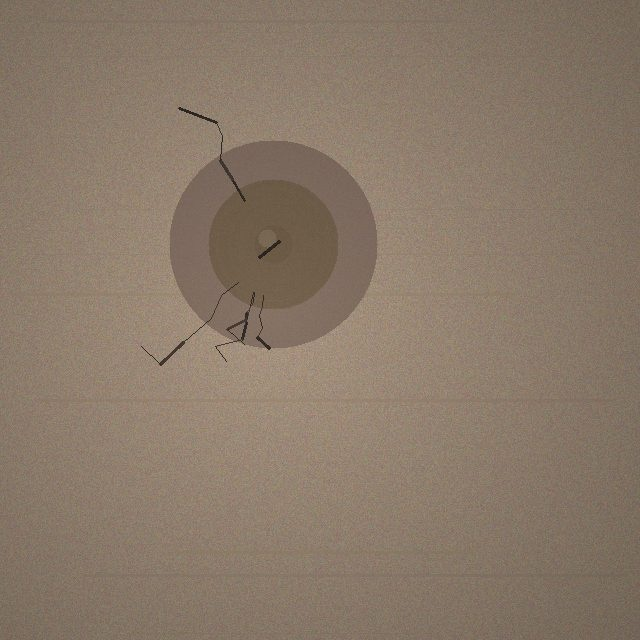crack: (169, 140, 377, 348)
